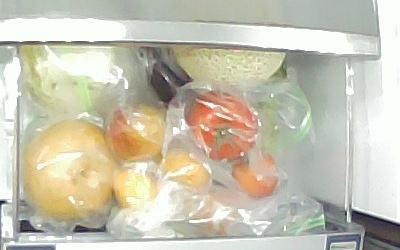cabbage_vinyl: (17, 45, 125, 111)
eggplant_vinyl: (137, 46, 200, 110)
melon: (171, 46, 286, 87)
pear_vinyl: (23, 117, 119, 220)
prune_vinyl: (102, 101, 166, 161), (230, 147, 278, 199)
tangerine_vinyl: (160, 150, 210, 191), (112, 166, 159, 209)
tomato_vinyl: (183, 88, 259, 161)
